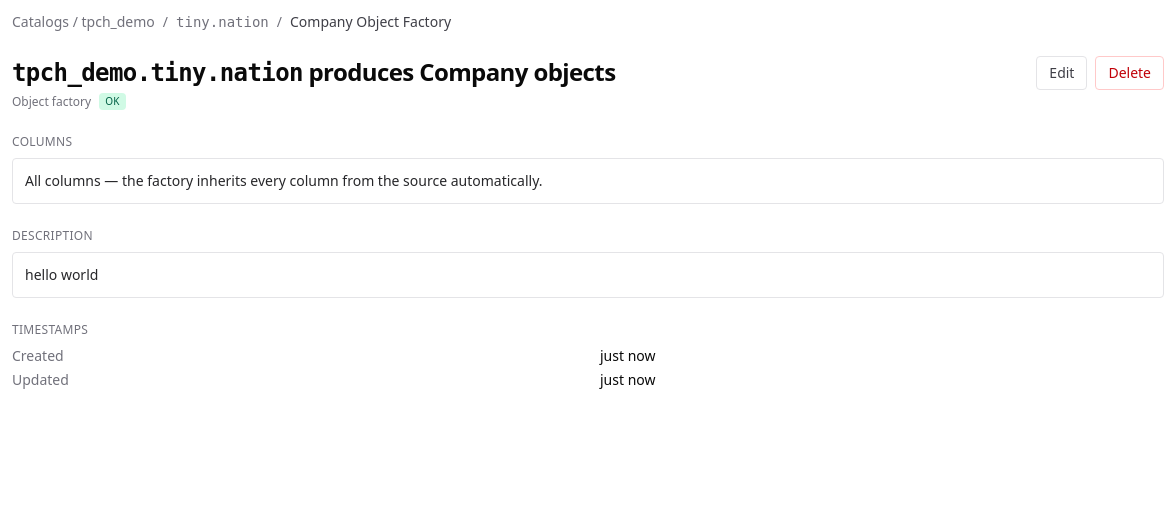
Test case: ObjectFactoryDetail › toggles columns mode and PATCHes use_all_columns + a list of columns
Click the button with test id "edit-button" at (1062, 73), box [1036,56,1088,90]
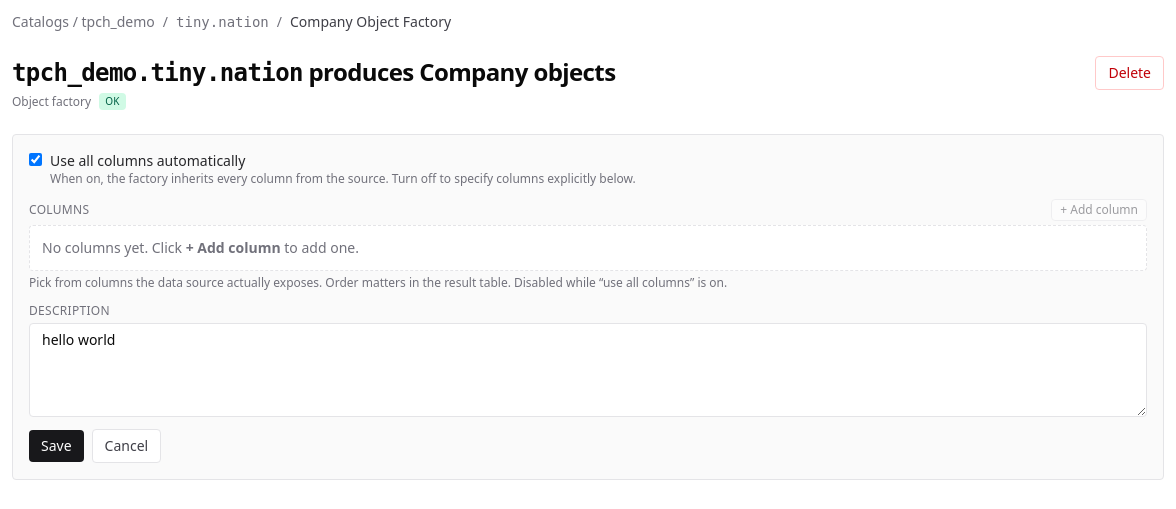
Expected: the checkbox with test id "use-all-columns-toggle" is checked
Click the checkbox with test id "use-all-columns-toggle" at (36, 160), box [29,153,42,166]
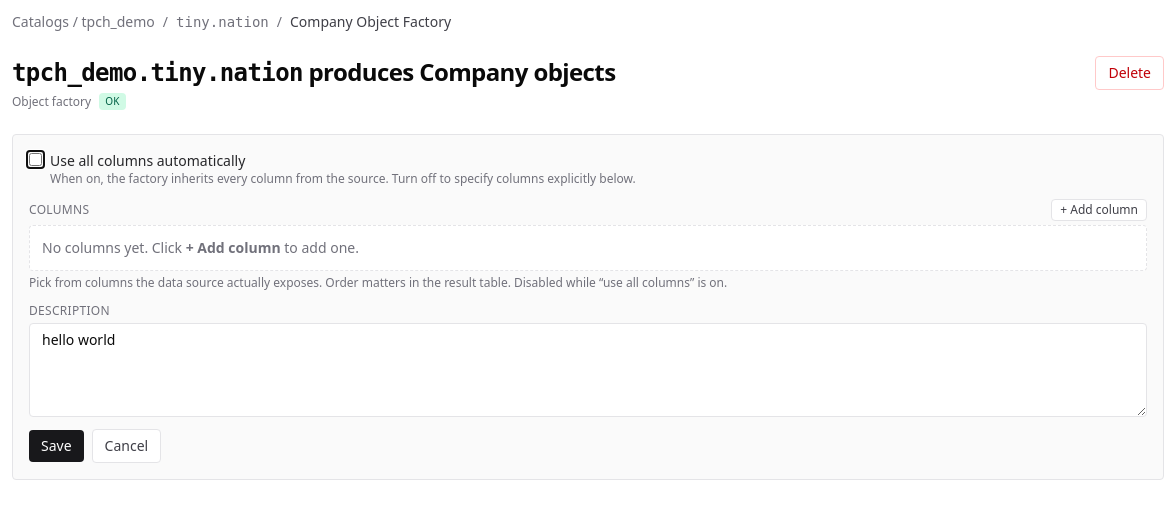
Expected: the checkbox with test id "use-all-columns-toggle" is not checked, [29,153,42,166]
Expected: the button with test id "add-column-button" is enabled
Click the button with test id "add-column-button" at (1099, 210), box [1051,199,1147,221]
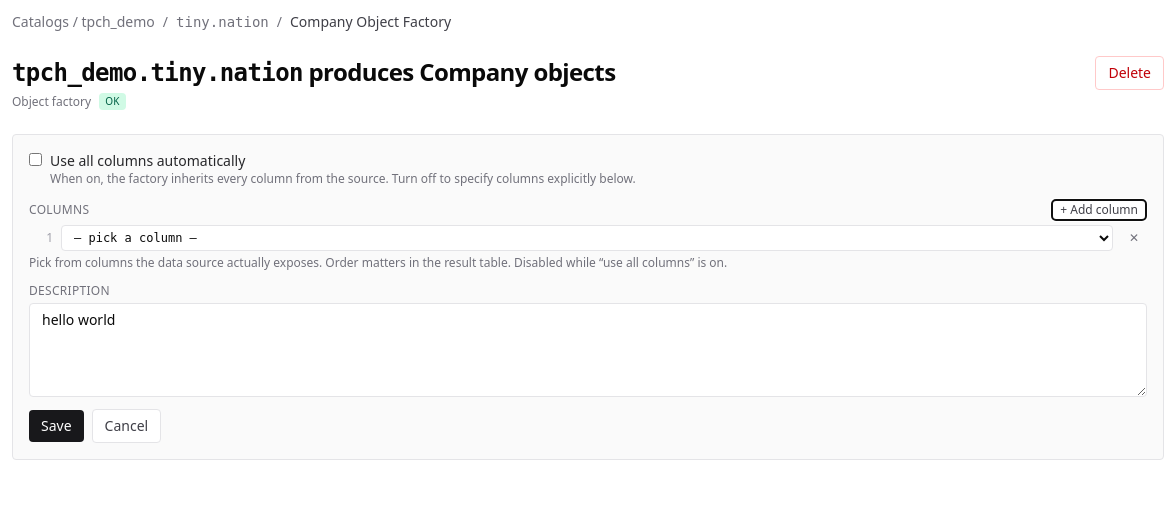
Select "id · bigint" in the dropdown with test id "column-input-0" at (587, 238), box [61,225,1113,251]
Click the button with test id "add-column-button" at (1099, 210), box [1051,199,1147,221]
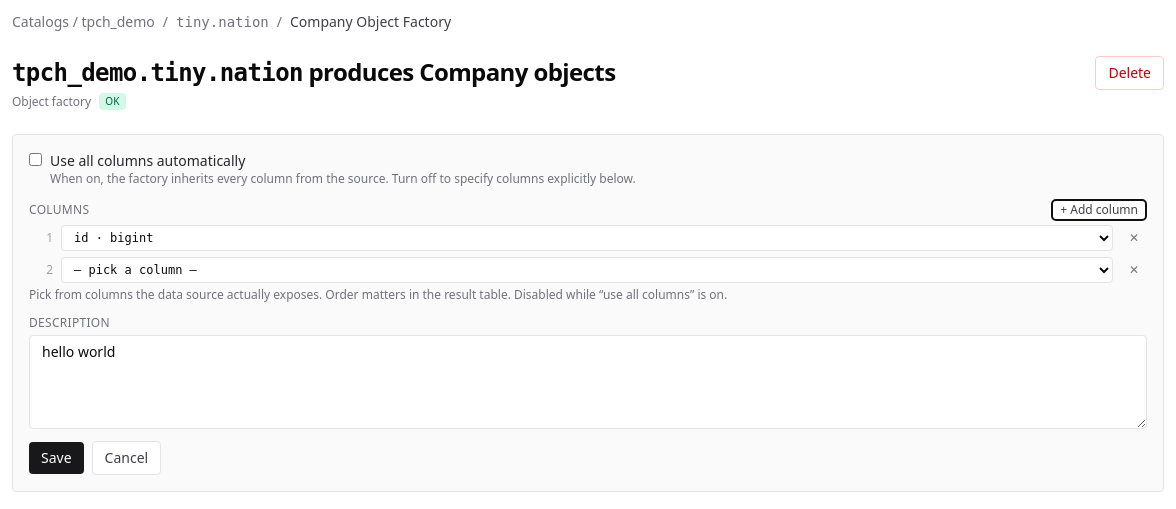
Select "name · varchar" in the dropdown with test id "column-input-1" at (587, 270), box [61,257,1113,283]
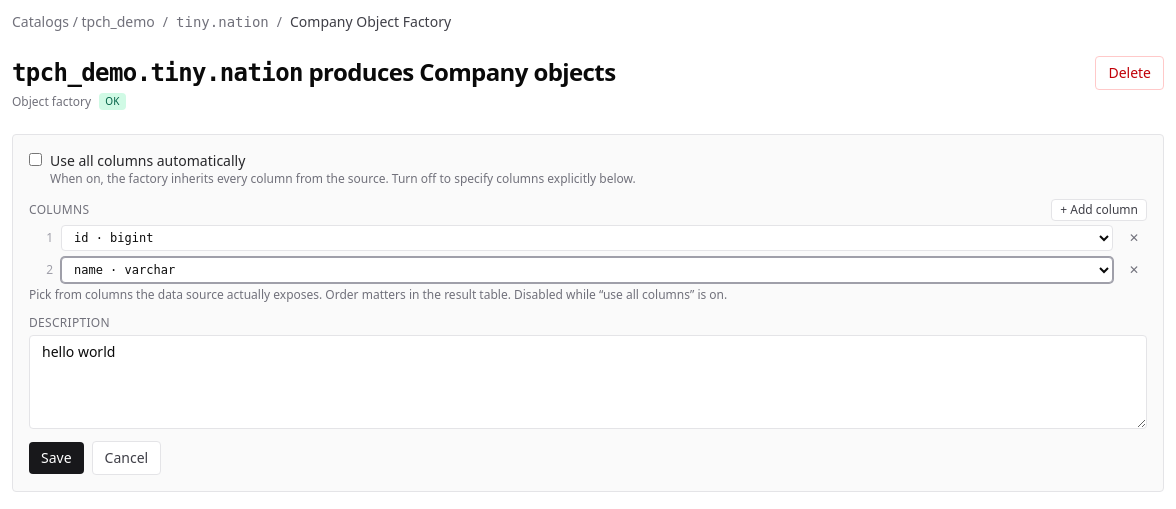
Click the button with test id "save-button" at (56, 458), box [29,442,84,474]
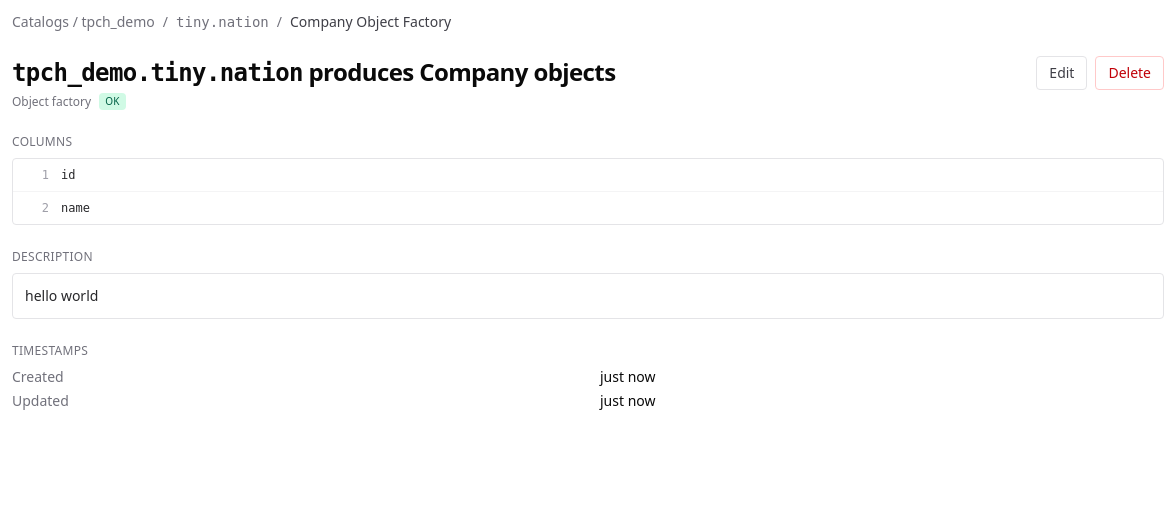
Expected: the list with test id "columns-specific" is shown, [12,158,1164,225]
